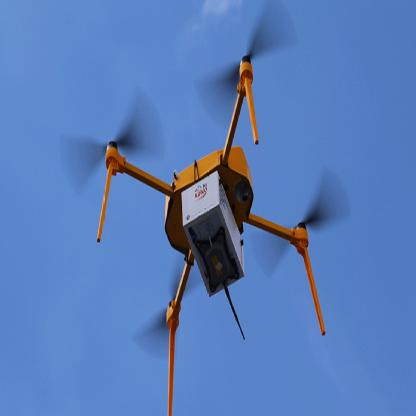drone: (92, 36, 354, 343)
